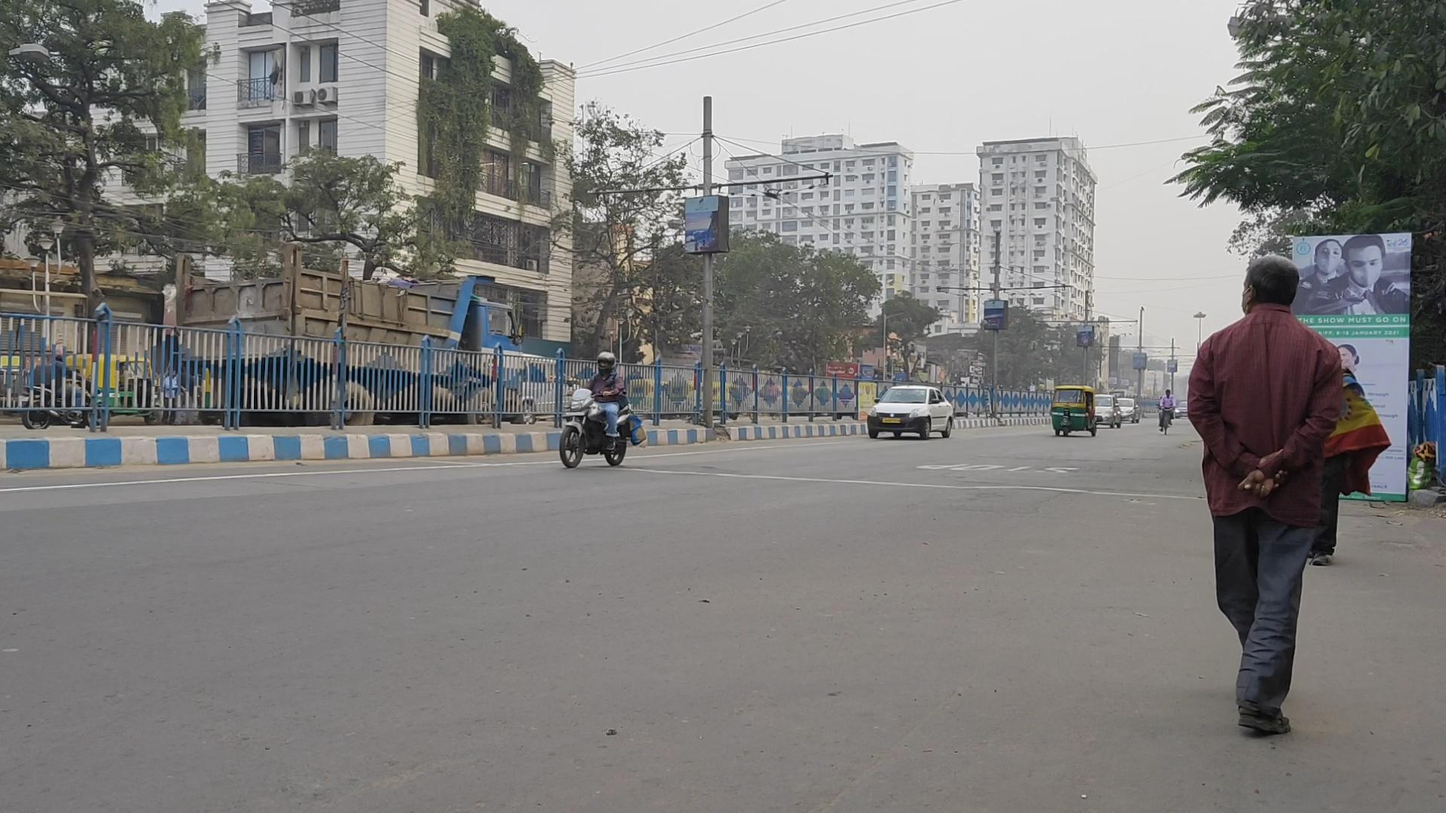Auto: (1050, 384, 1097, 438)
bike: (559, 352, 633, 469), (1158, 389, 1176, 435)
car: (867, 385, 954, 441), (1094, 393, 1122, 429), (1118, 397, 1141, 425)
